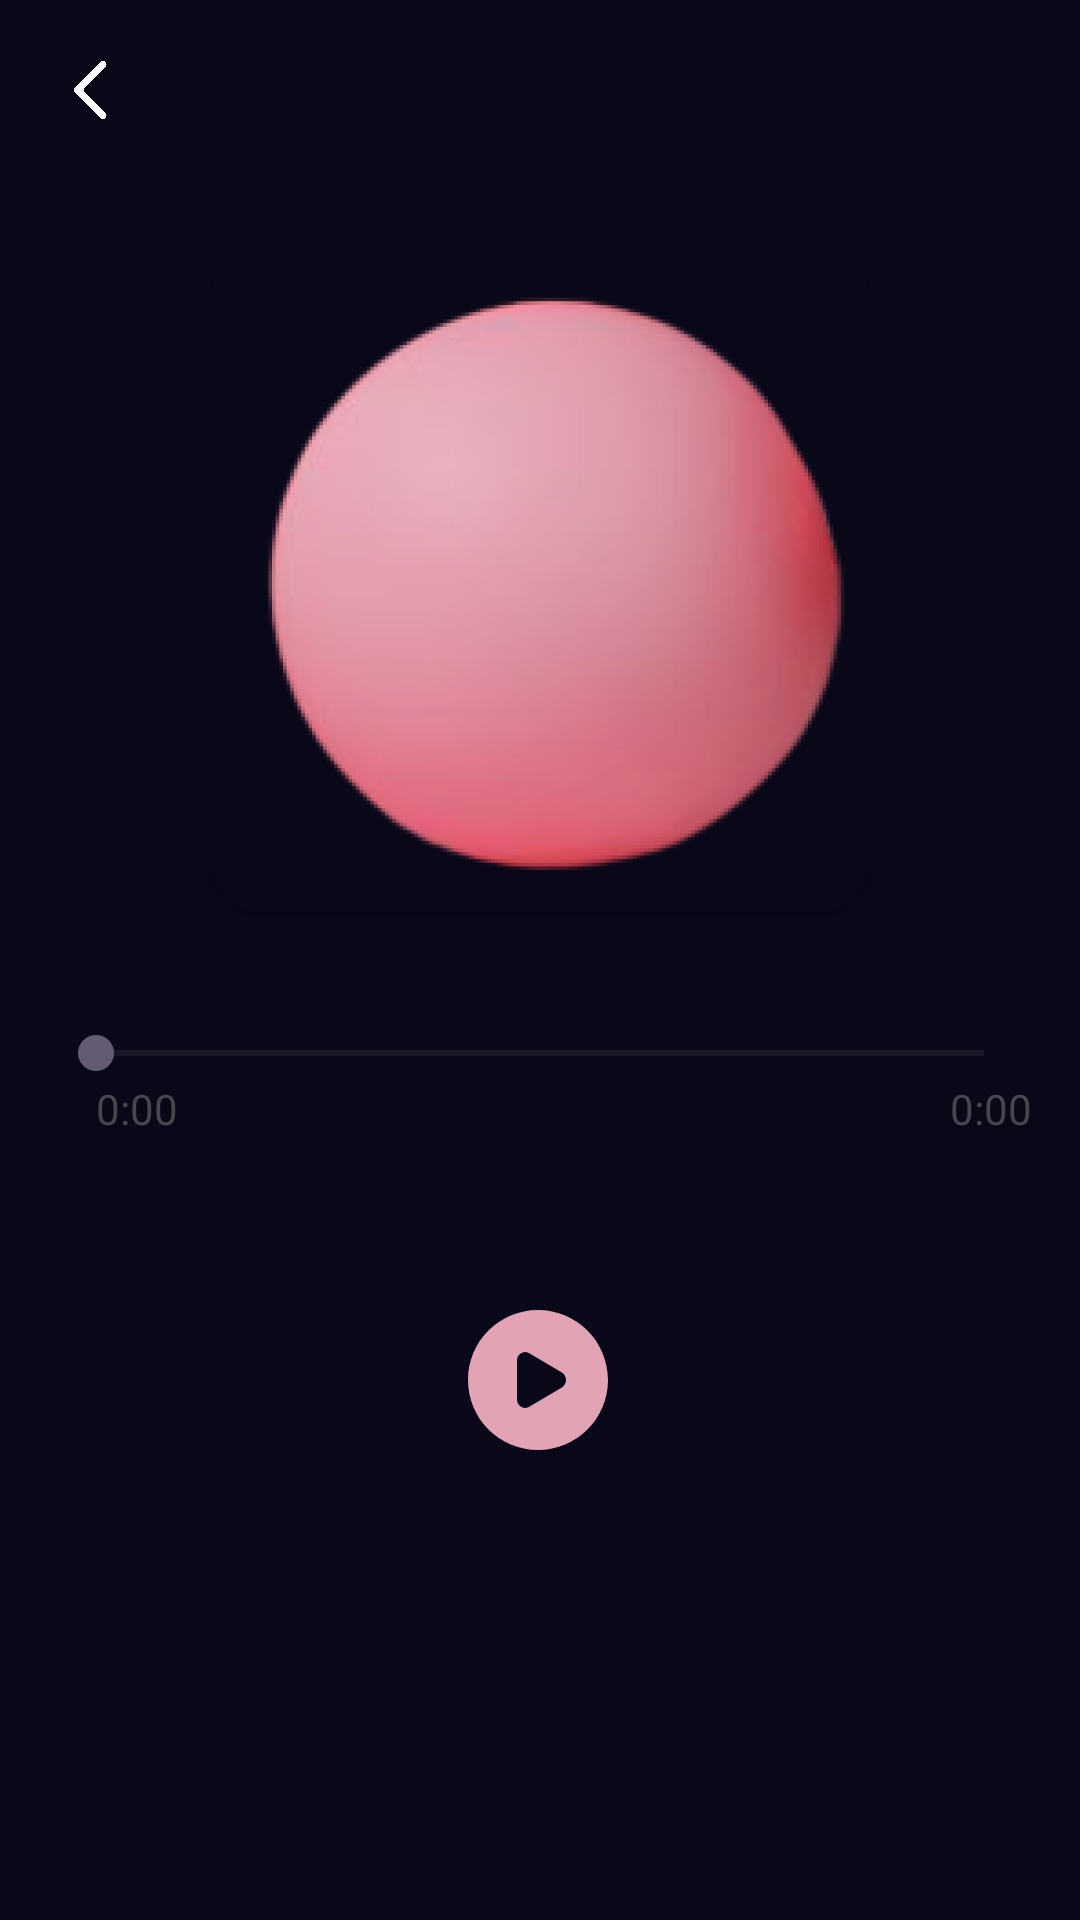

Screen size 1080px x 1920px. Icon name, then its center in pixels as (x,y):
back: (90,90)
play circle: (538,1380)
